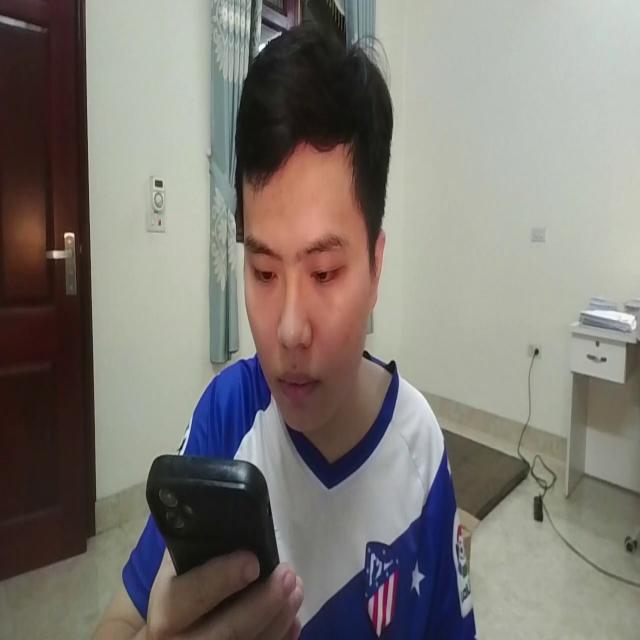phone: (128, 406, 302, 640)
student: (83, 23, 485, 640)
